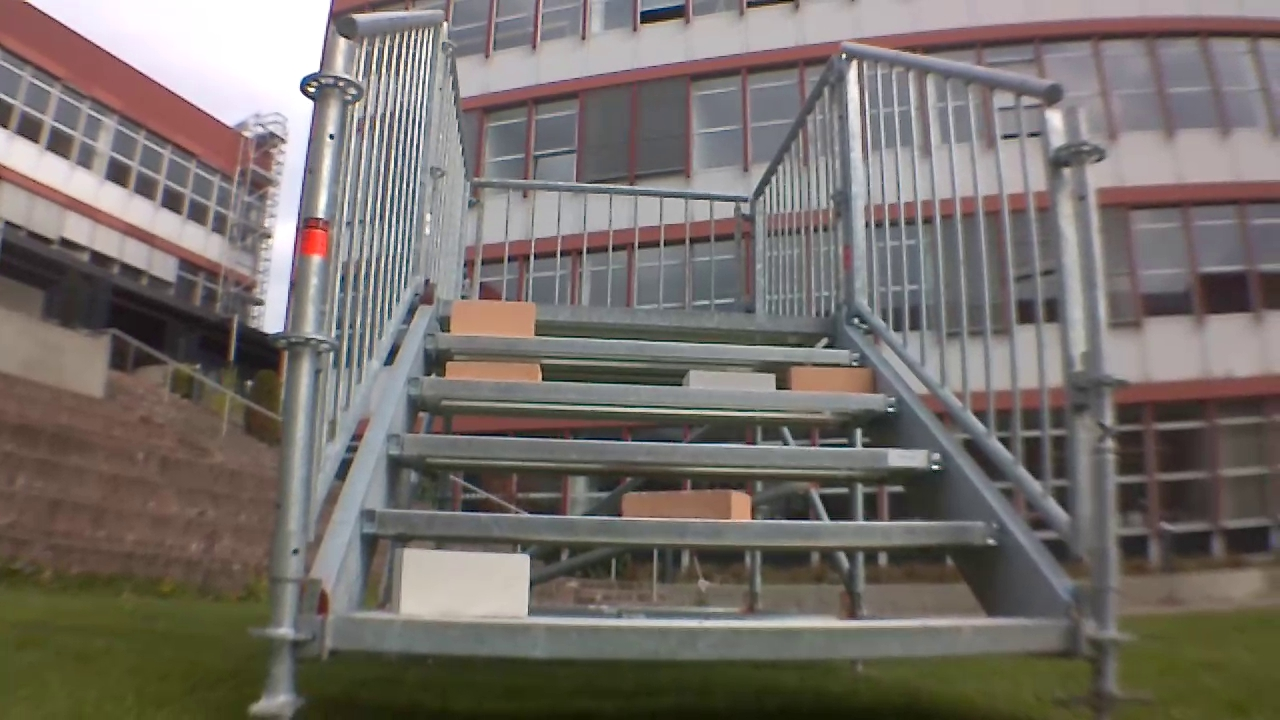brick: (389, 555, 536, 615), (619, 492, 747, 515), (450, 299, 538, 331), (780, 366, 875, 392), (439, 362, 542, 385), (681, 370, 775, 390)
edge: (324, 614, 1086, 653), (358, 505, 1003, 536), (383, 432, 943, 461), (404, 379, 905, 402), (424, 334, 865, 355), (441, 300, 835, 321)
stairs: (282, 3, 1118, 698)
steps: (307, 309, 1077, 657)
